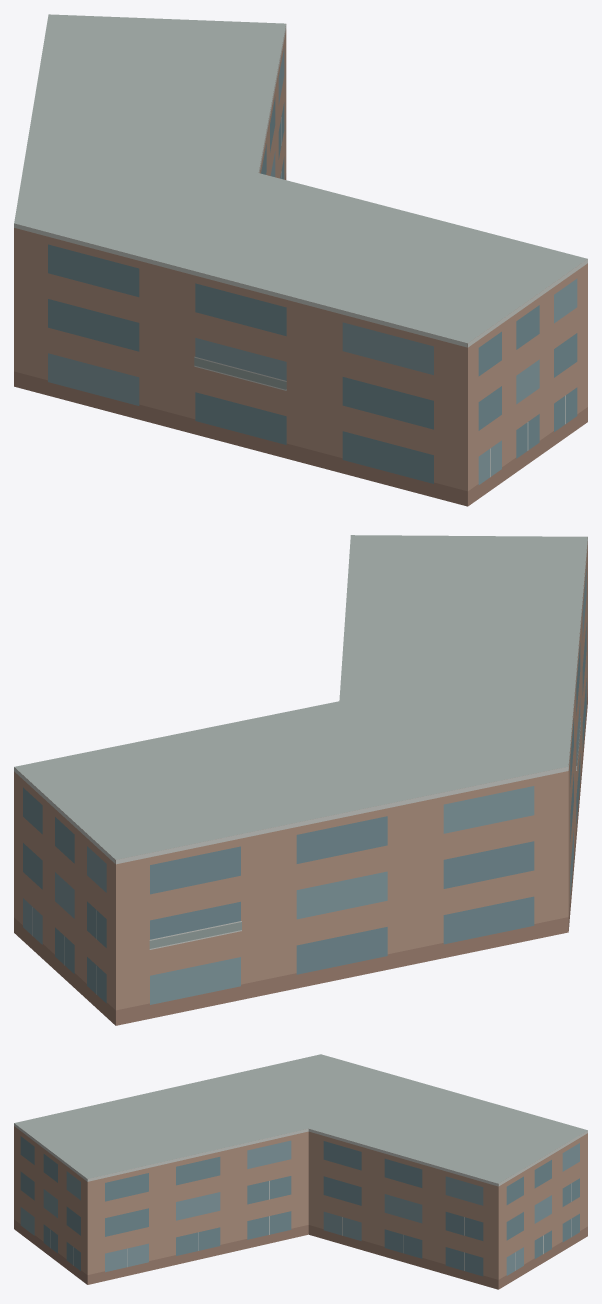
The model's file is survey-upis-32679535.glb.
3 renders of one model, top to bottom at view 1: azimuth 30°, elevation 25°; view 2: azimuth 150°, elevation 25°; view 3: azimuth 270°, elevation 25°, orthographic. The views are drawn at different scales.
Parts seen in each view (by area): view 1: survey-upis-32679535.tmp; view 2: survey-upis-32679535.tmp; view 3: survey-upis-32679535.tmp.
Part boxes in pixels (bbox=[...]): survey-upis-32679535.tmp: bbox=[14, 14, 587, 506]; survey-upis-32679535.tmp: bbox=[14, 535, 587, 1025]; survey-upis-32679535.tmp: bbox=[14, 1054, 587, 1289].
Bounding box in the file's own units: 24 × 9.15 × 44.91.
